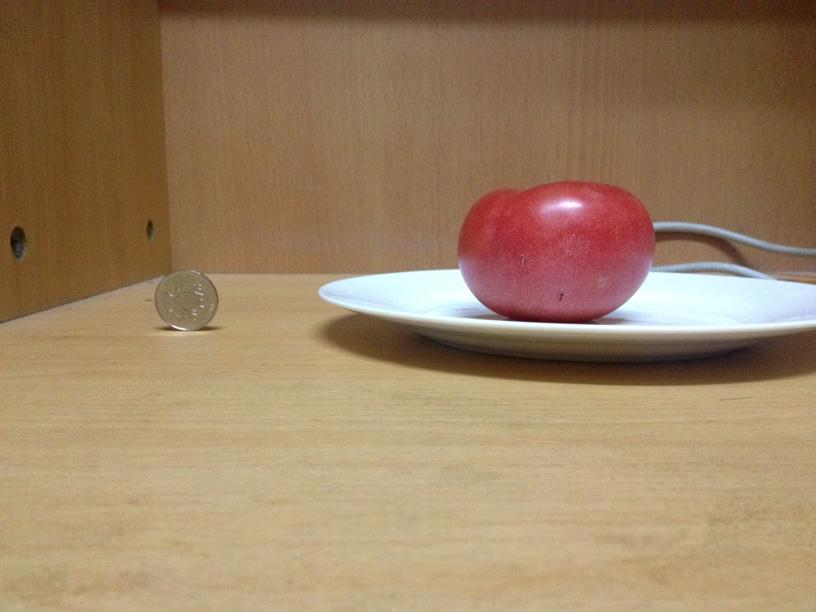coin: (151, 263, 222, 335)
tomato: (461, 175, 656, 319)
